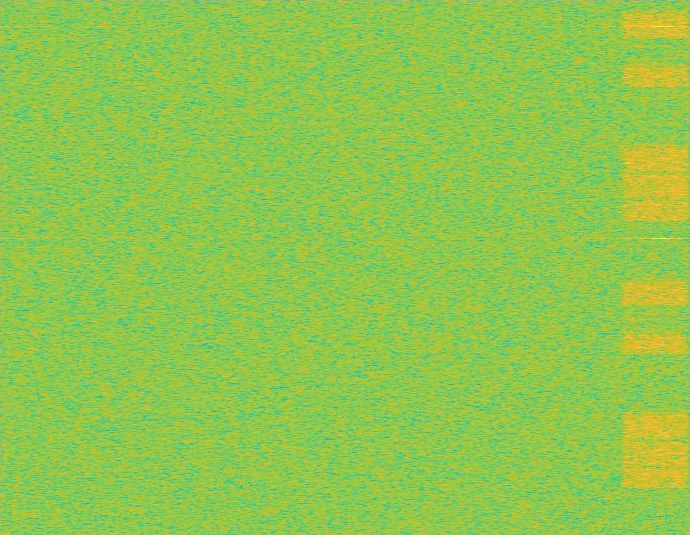LTE: (621, 0, 689, 534)
Radar: (655, 0, 669, 534)
